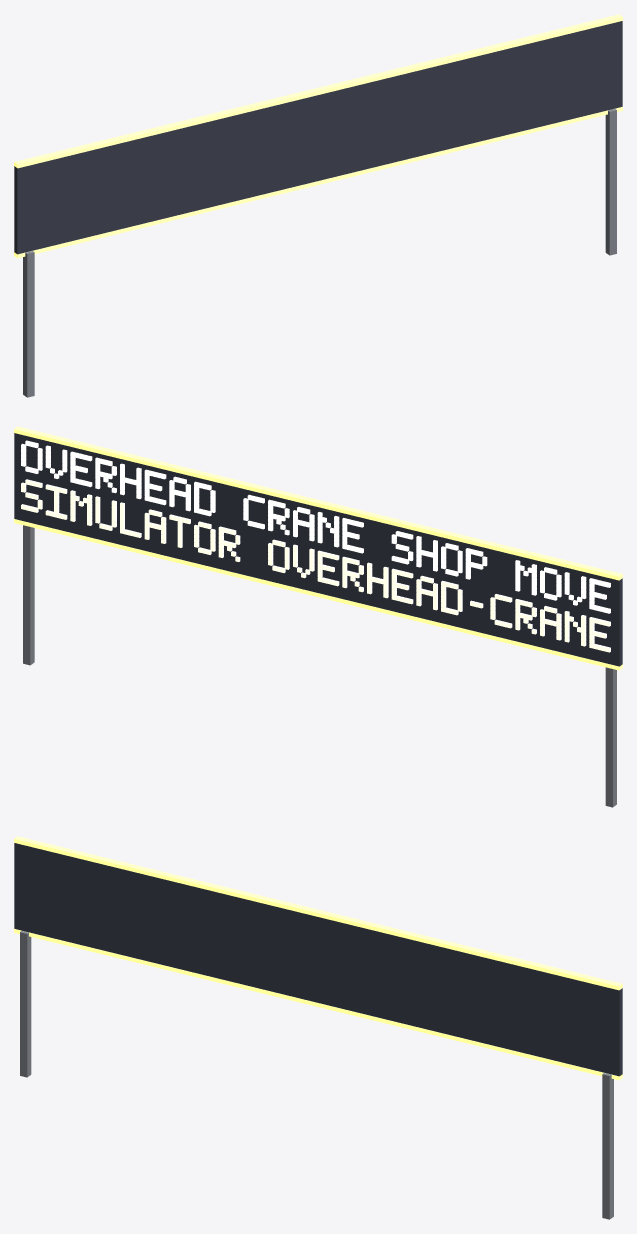
Rendered from wing-sign-overhead-crane.glb.
3 renders of one model, top to bottom at view 1: azimuth 30°, elevation 25°; view 2: azimuth 150°, elevation 25°; view 3: azimuth 330°, elevation 25°, orthographic.
Parts seen in each view (by area): view 1: Sign · Overhead Crane Shop Move; view 2: Sign · Overhead Crane Shop Move; view 3: Sign · Overhead Crane Shop Move.
Boxes of the visible parts, bbox=[...] form: Sign · Overhead Crane Shop Move: bbox=[14, 14, 622, 397]; Sign · Overhead Crane Shop Move: bbox=[14, 426, 622, 807]; Sign · Overhead Crane Shop Move: bbox=[14, 836, 622, 1219].
Bounding box in the file's own units: 13.23 × 4.88 × 0.254.
